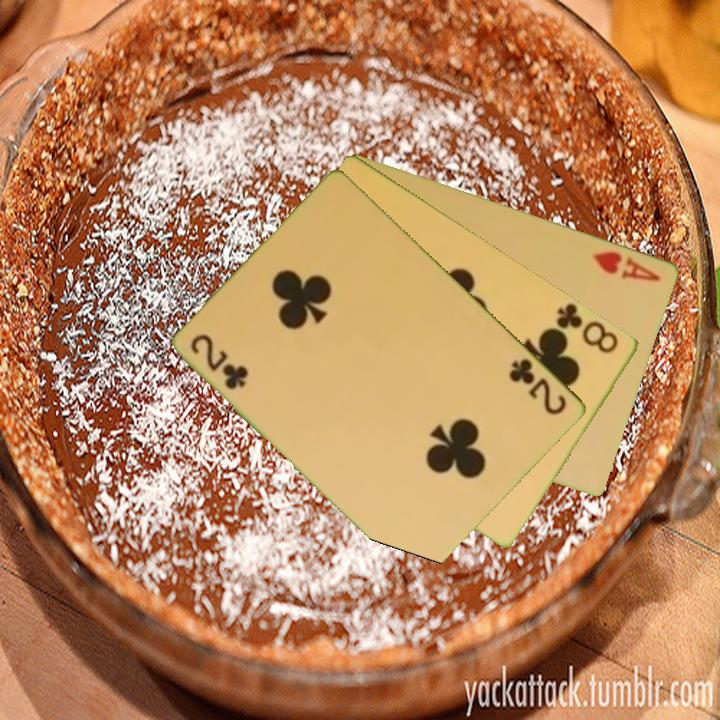2c: (187, 330, 252, 393), (506, 355, 570, 418)
8c: (549, 299, 622, 356)
Ah: (590, 247, 664, 284)
